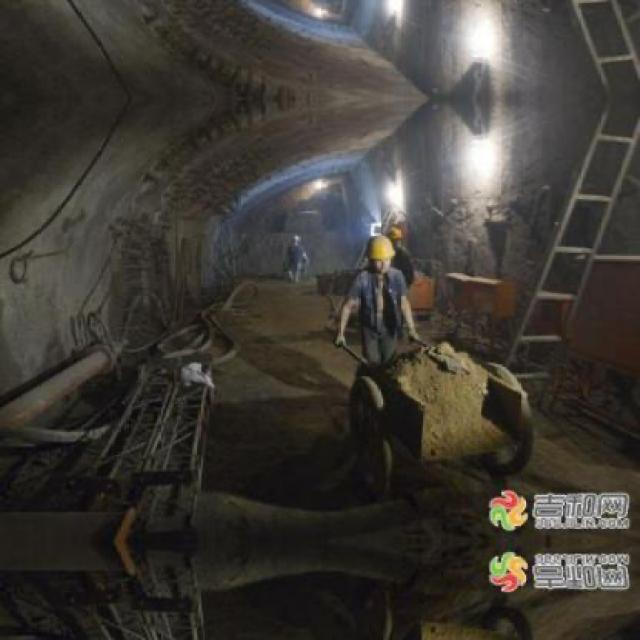helmet: (366, 233, 396, 274), (388, 225, 404, 245)
